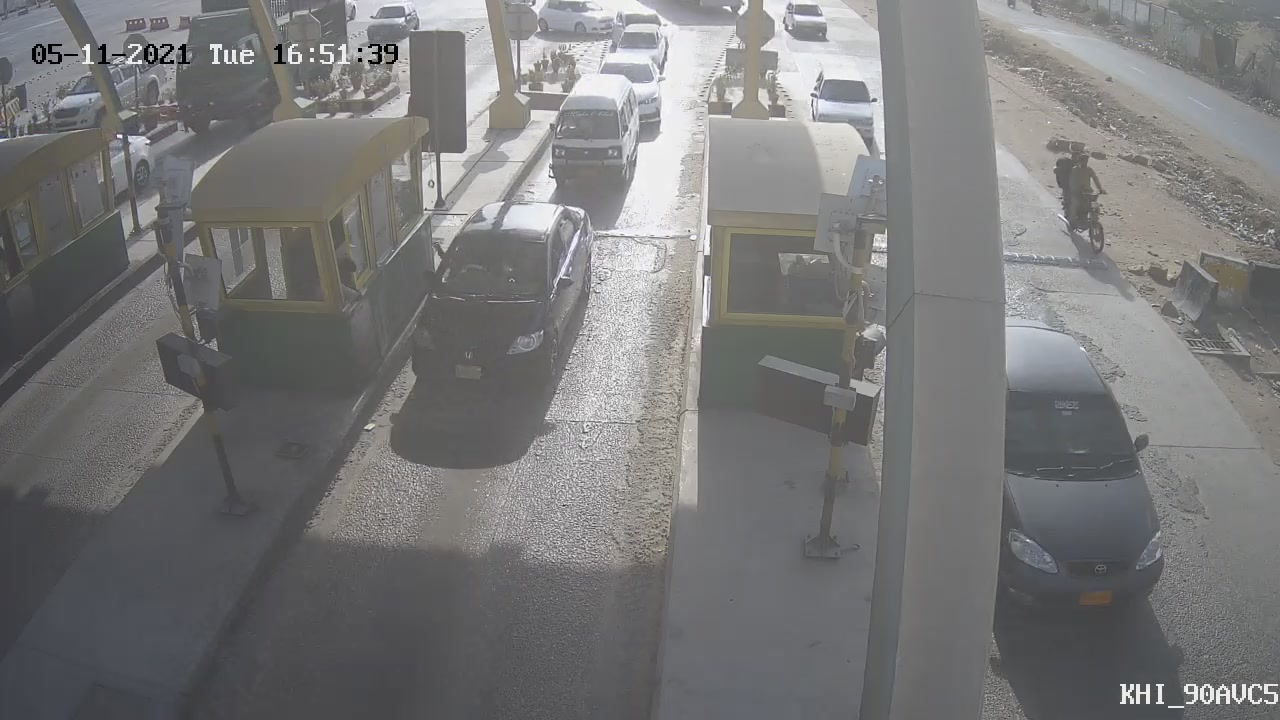F1: (378, 186, 613, 416), (530, 62, 656, 212)
